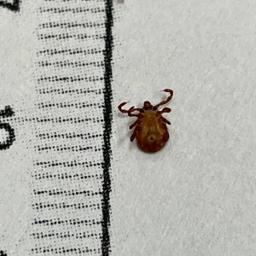Rhipicephalus sanguineus: (118, 88, 174, 154)
